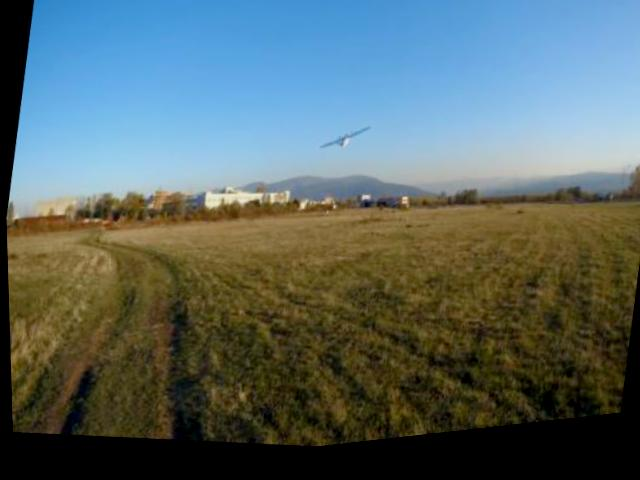uav: (309, 113, 374, 170)
